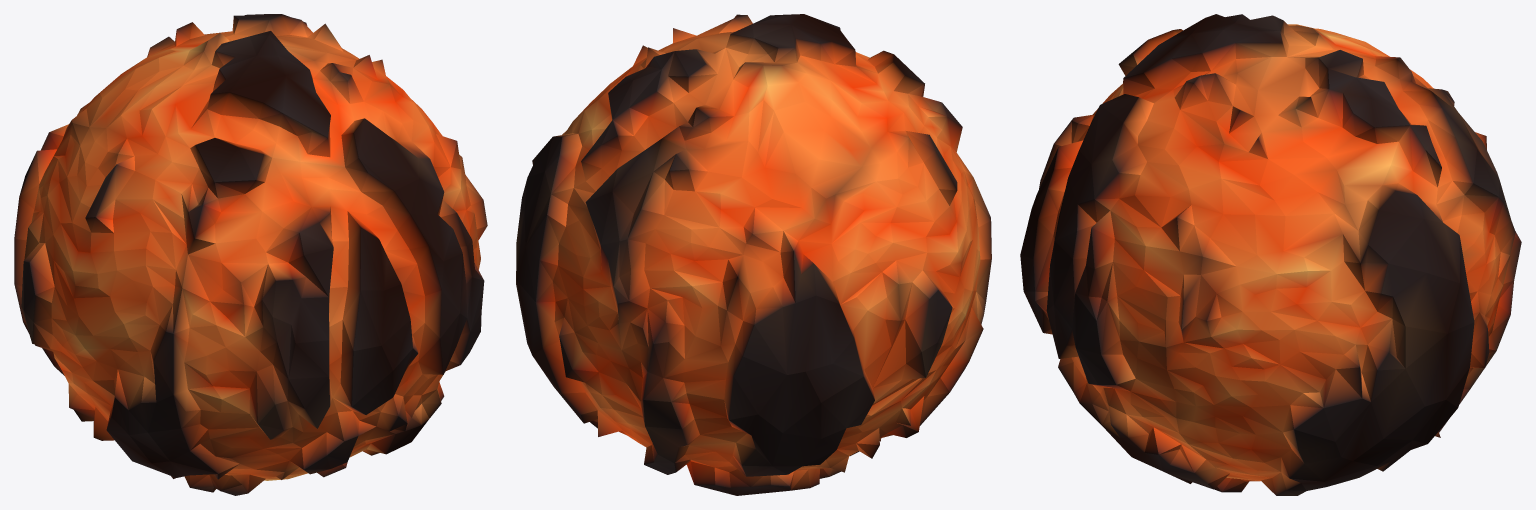
The model's file is barren_11.fbx.
The picture shows the model from 3 angles, left to right: view 1: azimuth 30°, elevation 25°; view 2: azimuth 150°, elevation 25°; view 3: azimuth 270°, elevation 25°; orthographic projection. The views are drawn at different scales.
Visible parts, largest first — view 1: filecache1; view 2: filecache1; view 3: filecache1.
Part boxes in pixels (<box>): filecache1: <box>14,14,487,495</box>; filecache1: <box>516,14,991,495</box>; filecache1: <box>1020,14,1521,495</box>.
Bounding box in the file's own units: 2.1 × 2.18 × 2.21.
